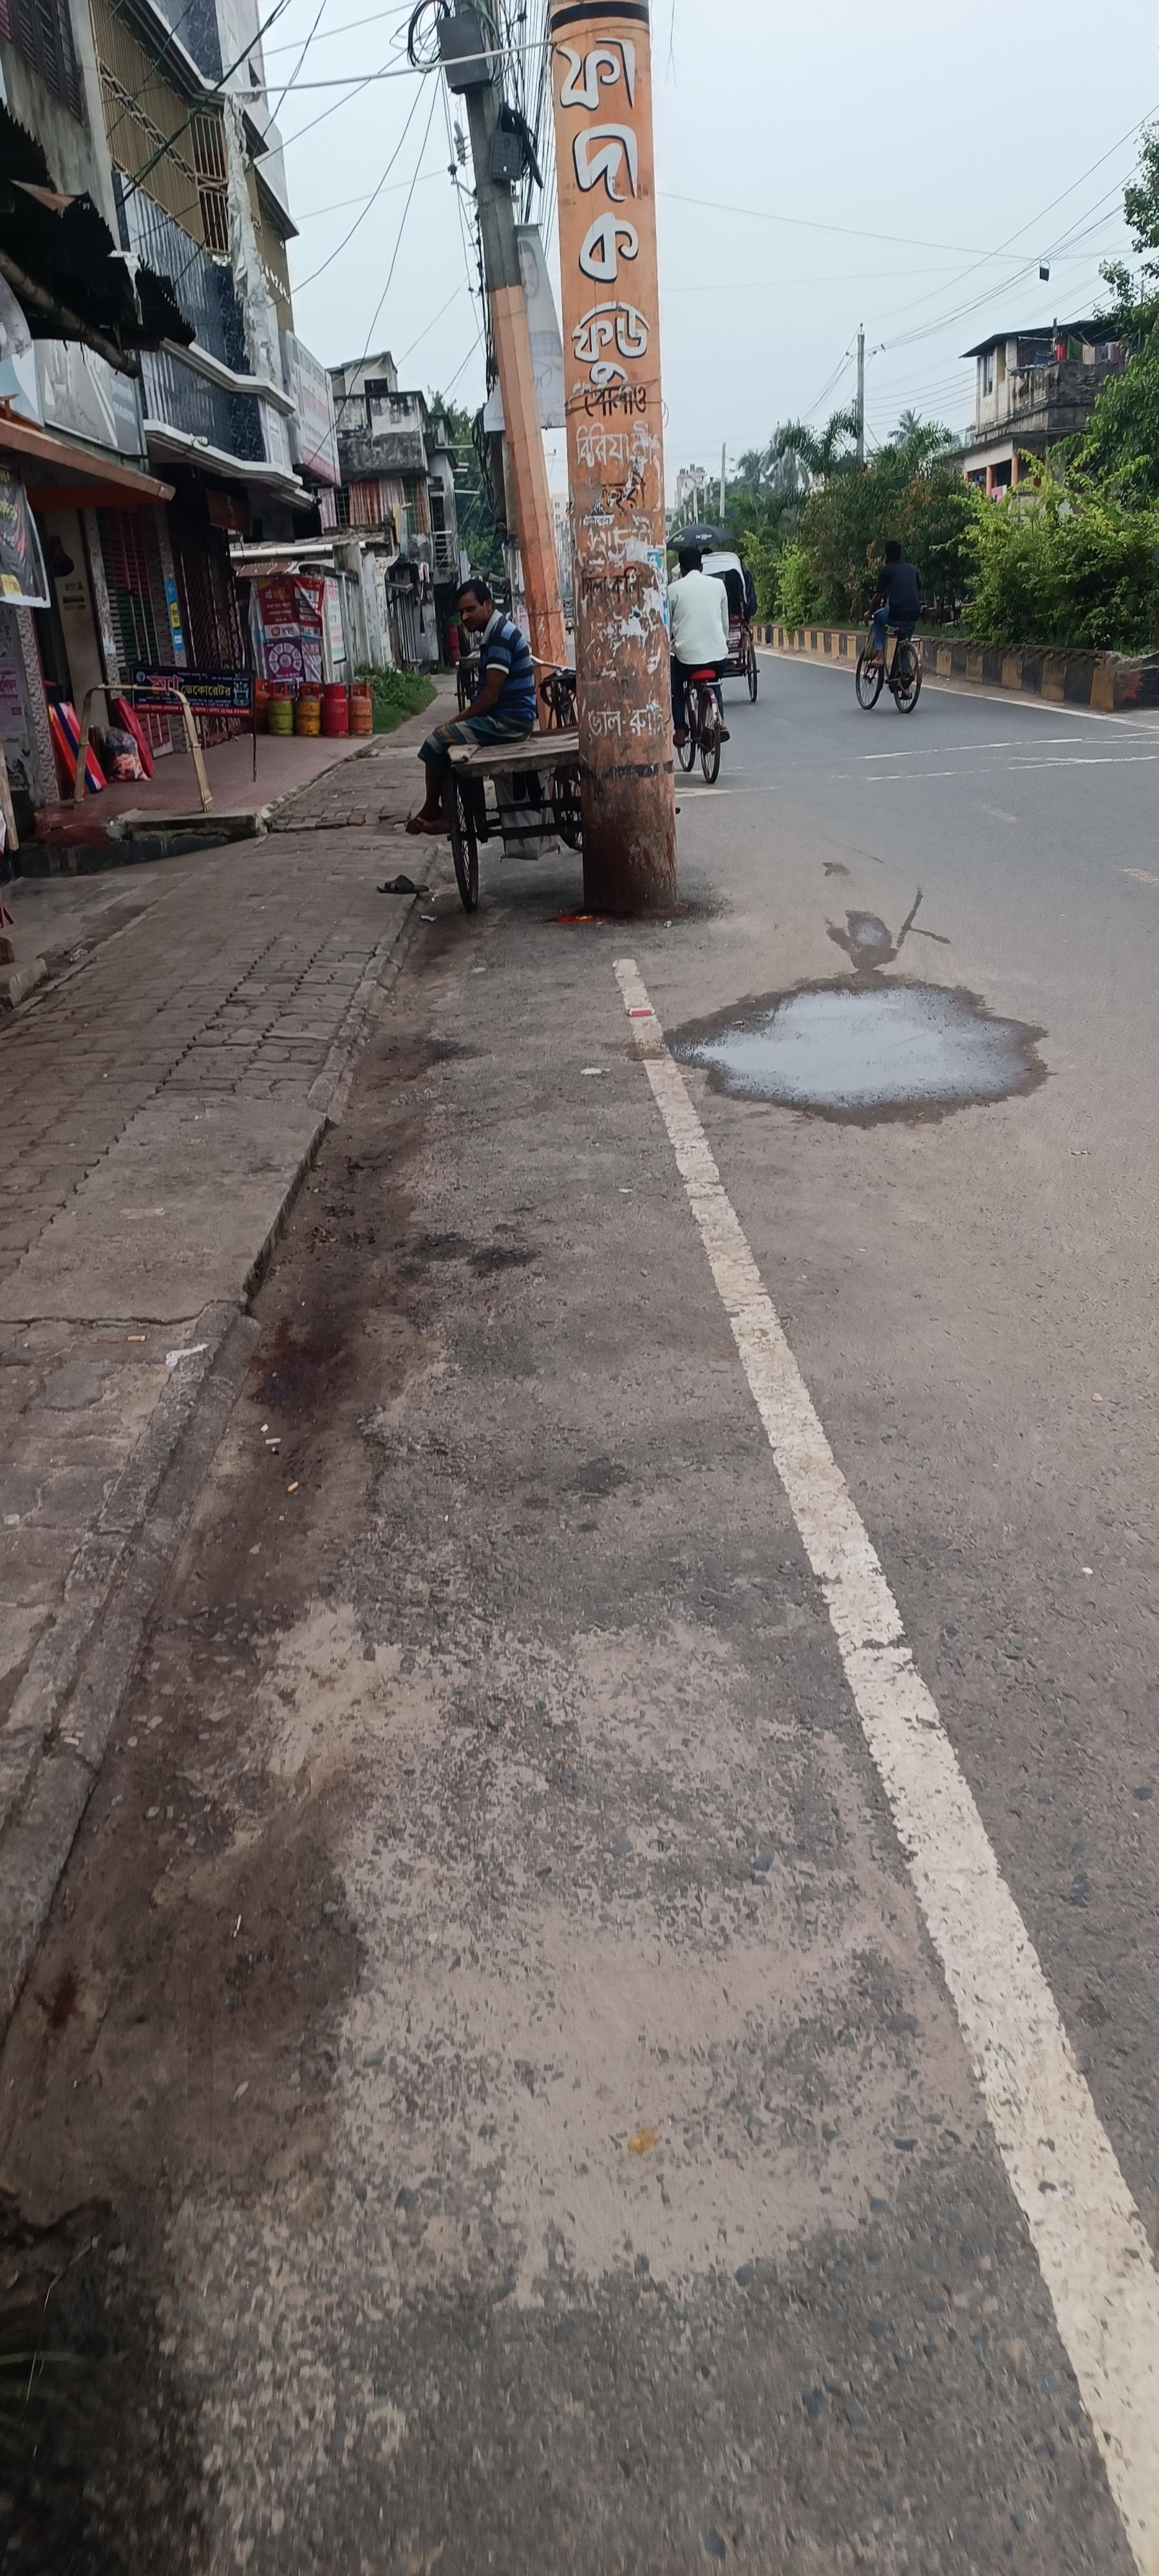Garbage: (442, 723, 584, 912)
Garbage-bin: (405, 577, 538, 835), (663, 542, 731, 746), (872, 539, 923, 690)
Light-pole: (535, 84, 709, 920)
Pothole: (3, 667, 486, 2004)
